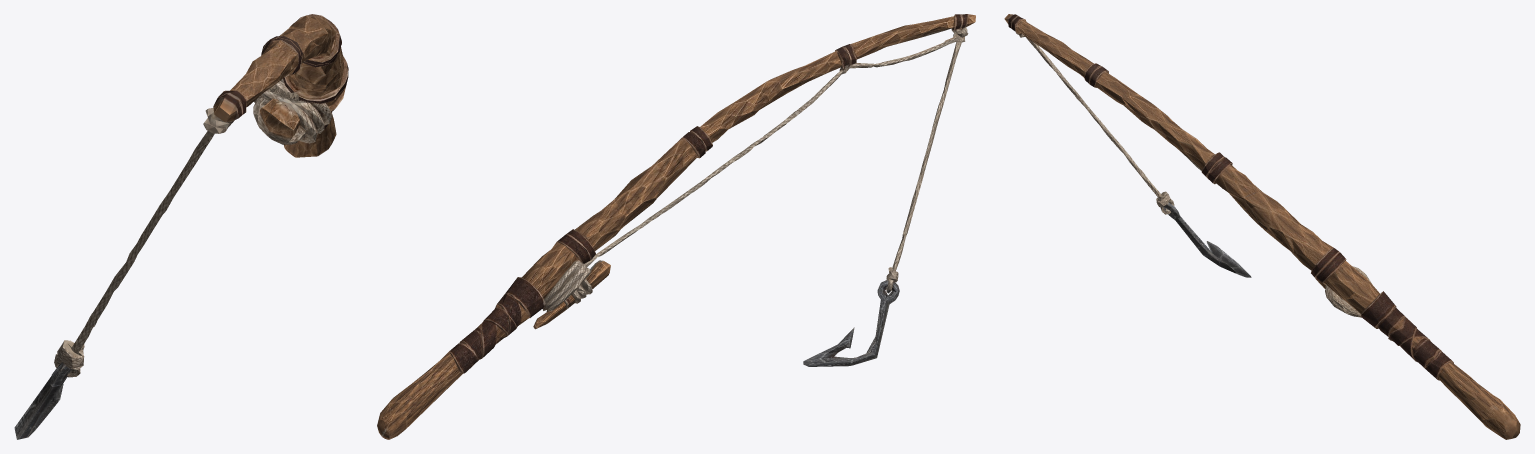
Rendered from fisher.glb.
3 views of the same model, side by side, from view 1: azimuth 30°, elevation 25°; view 2: azimuth 150°, elevation 25°; view 3: azimuth 270°, elevation 25° (orthographic). The views are drawn at different scales.
Parts seen in each view (by area): view 1: Module_tool_fisher_0; view 2: Module_tool_fisher_0; view 3: Module_tool_fisher_0.
Boxes of the visible parts, x1,y1,x2,y2 form: Module_tool_fisher_0: [14, 14, 348, 439]; Module_tool_fisher_0: [377, 14, 975, 439]; Module_tool_fisher_0: [1004, 14, 1520, 439].
Size of the model in its own units: 0.8075 by 0.6989 by 1.15.
1 material, 1 textured.
